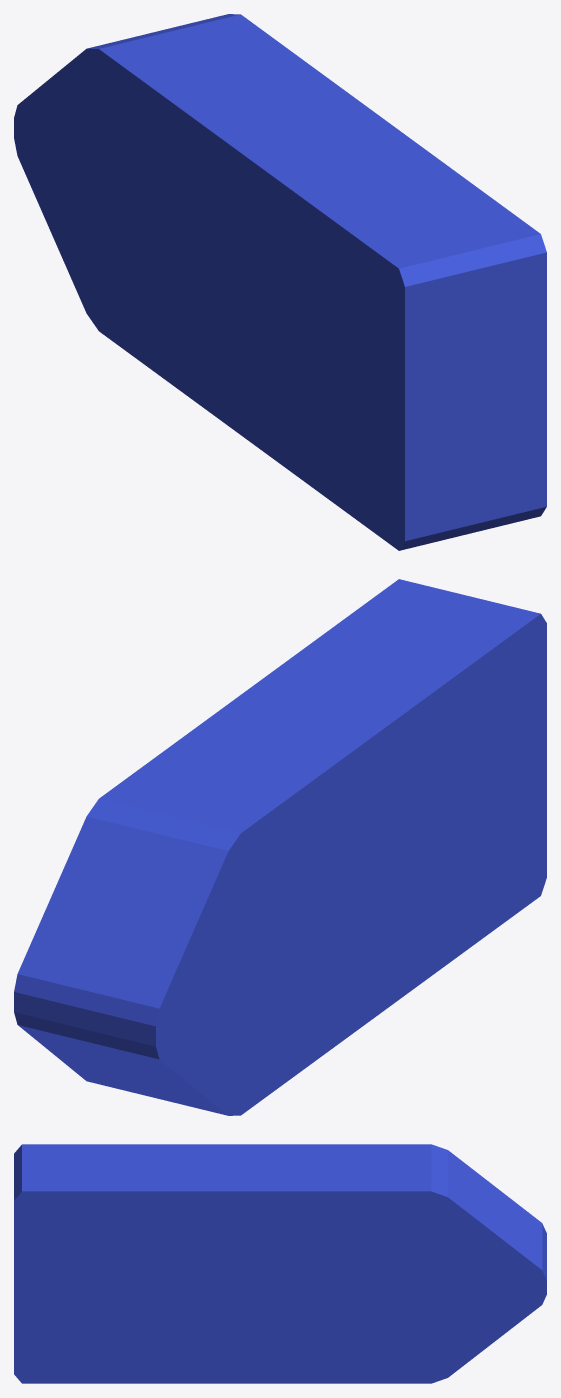
The model's file is signpost_sign_a03.glb.
3 views of the same model, one above another, from view 1: azimuth 30°, elevation 25°; view 2: azimuth 150°, elevation 25°; view 3: azimuth 270°, elevation 25° (orthographic). The views are drawn at different scales.
Visible parts, largest first — view 1: Cube.150; view 2: Cube.150; view 3: Cube.150.
Part boxes in pixels (bbox=[...]): Cube.150: bbox=[14, 14, 546, 550]; Cube.150: bbox=[14, 579, 546, 1115]; Cube.150: bbox=[14, 1144, 546, 1383].
Bounding box in the file's own units: 0.5746 × 1.09 × 2.74.
